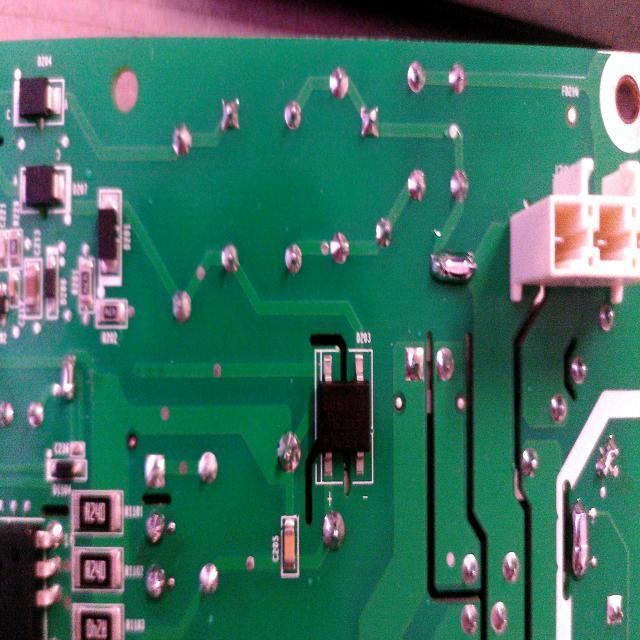Soldering shorted: (424, 237, 478, 294), (568, 494, 592, 588), (591, 430, 619, 488), (60, 354, 80, 404)
